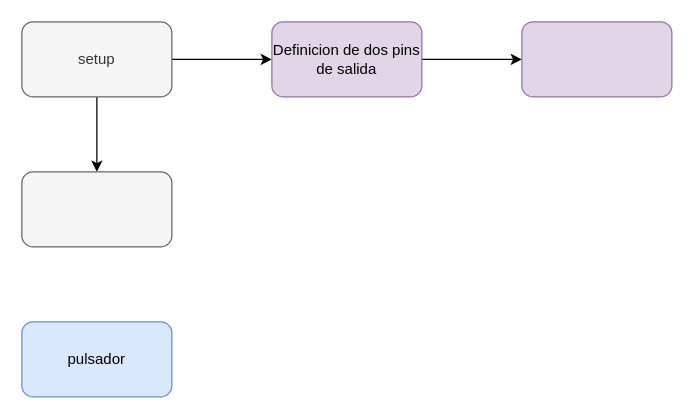
The diagram is 694 pixels wide and 419 high, and some of its shapes have lost their labels. The shapes that lost their labels are listed below. From the top down, each one's centre as x and y in pixels, then its label:
the point at 596,59: Definicion de dos pins de entrada
the point at 96,209: loop
